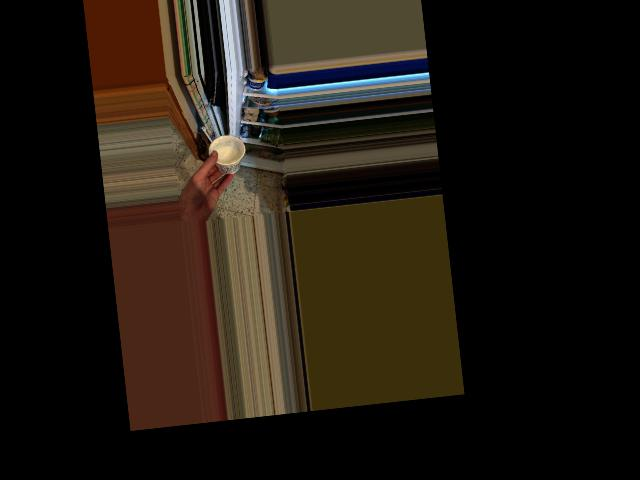cotage: (211, 129, 242, 177)
